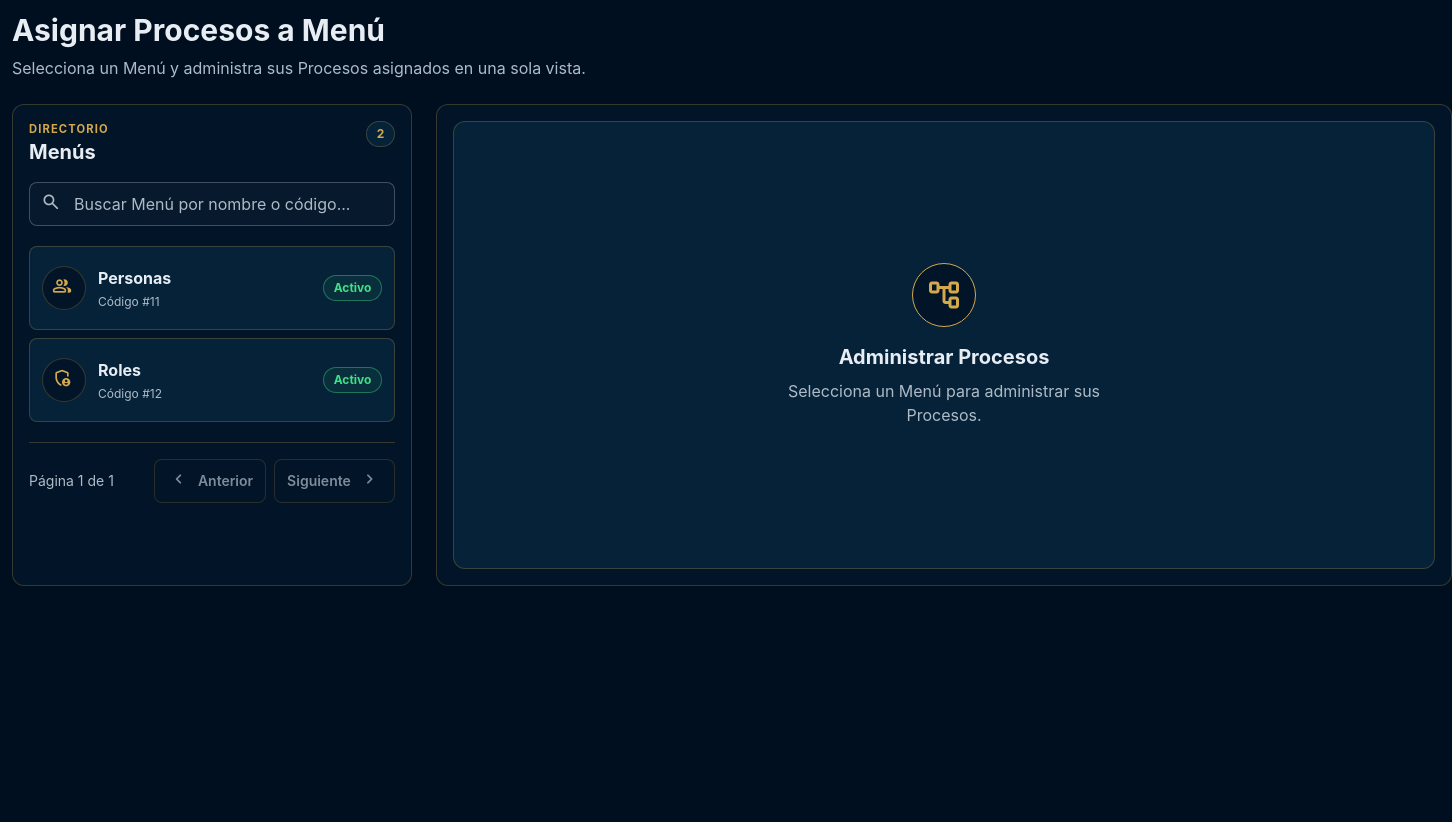
Test: AsignarProcesosListComponent › reports HTTP 401 while loading assigned Procesos
Click the button "Personas Código #11 Activo": click(64, 288) [29,246,395,330]
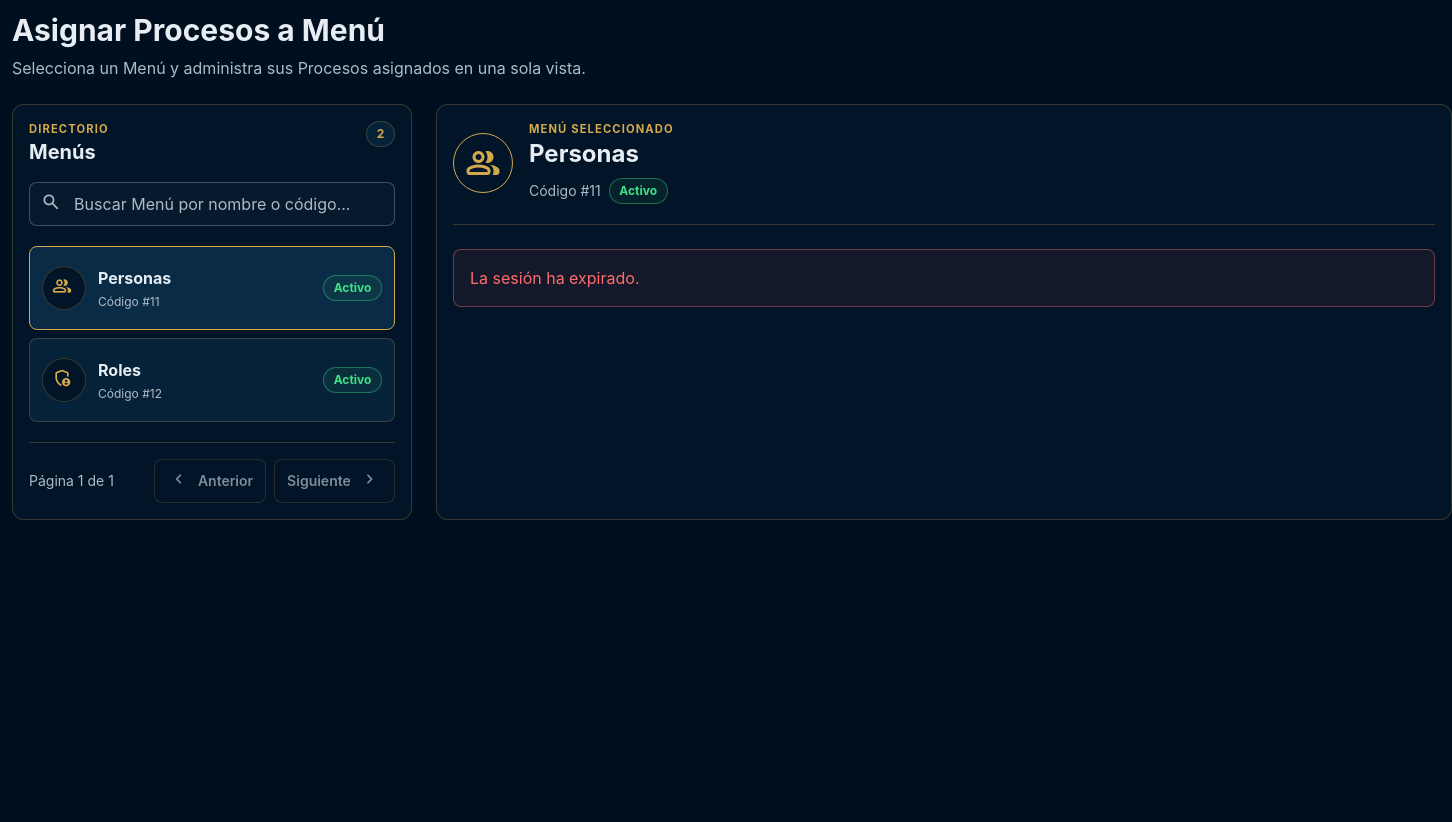
Expected: the message with class "alert" reads "La sesión ha expirado.", [470,268,640,288]
